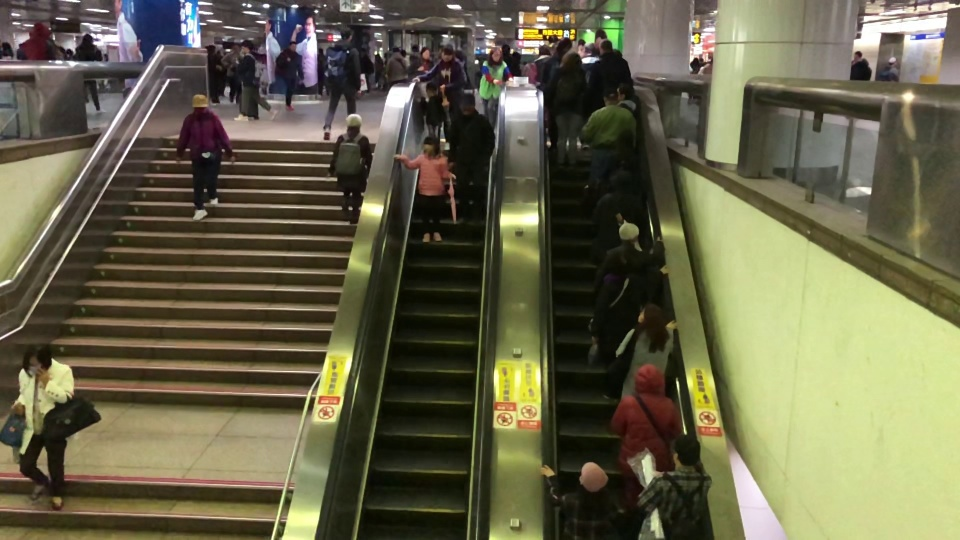person_head: (668, 431, 702, 473), (633, 362, 666, 397), (575, 461, 610, 493), (21, 342, 52, 376), (636, 301, 665, 326), (610, 168, 634, 192), (609, 250, 630, 275), (619, 220, 639, 245), (422, 134, 441, 157), (459, 92, 477, 116), (617, 128, 635, 152), (189, 92, 208, 113), (29, 22, 51, 40), (343, 112, 362, 132), (601, 87, 619, 108), (563, 50, 581, 68), (488, 45, 504, 65), (557, 38, 574, 56), (616, 84, 633, 102), (438, 43, 454, 62), (424, 80, 438, 98), (582, 41, 596, 58), (598, 39, 612, 55), (80, 32, 94, 46), (240, 39, 254, 53), (340, 27, 354, 41), (538, 45, 551, 58), (419, 46, 430, 61), (547, 32, 560, 44), (500, 43, 512, 55), (852, 49, 862, 63), (887, 54, 897, 67), (288, 40, 297, 53), (231, 43, 241, 53), (391, 47, 401, 56)
person_vbox: (607, 363, 684, 507), (13, 342, 75, 510), (632, 431, 713, 540), (590, 253, 669, 360), (175, 92, 235, 221), (539, 460, 625, 540), (614, 303, 679, 405), (447, 94, 497, 224), (412, 43, 472, 151), (393, 136, 453, 243), (591, 222, 666, 307), (582, 86, 638, 190), (536, 52, 587, 165), (593, 168, 650, 269), (327, 110, 375, 225), (537, 36, 575, 152), (323, 28, 361, 142), (233, 41, 279, 123), (475, 45, 514, 132), (589, 38, 631, 114), (73, 32, 106, 115), (274, 39, 305, 112), (601, 127, 640, 184), (418, 79, 445, 149), (17, 22, 60, 60), (221, 43, 242, 106), (616, 84, 642, 122), (384, 46, 410, 83), (408, 47, 435, 81), (499, 43, 522, 77), (532, 45, 552, 82), (850, 50, 873, 81), (877, 53, 900, 81), (581, 42, 601, 71), (546, 32, 562, 56)
